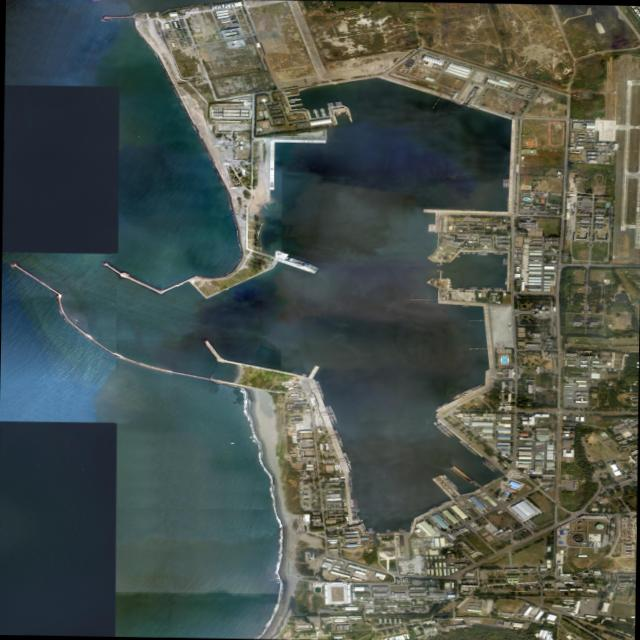ship: (285, 256, 320, 271), (452, 384, 483, 400), (450, 466, 473, 483), (458, 439, 479, 456), (432, 421, 452, 438), (435, 420, 455, 437), (483, 458, 499, 472), (327, 405, 338, 424), (481, 460, 497, 473), (333, 429, 344, 447), (324, 406, 335, 424), (315, 380, 325, 399), (465, 87, 478, 101), (342, 452, 352, 470), (435, 402, 448, 409), (348, 476, 352, 492), (502, 256, 505, 265), (506, 179, 509, 188), (504, 277, 507, 285), (504, 257, 507, 265), (502, 179, 505, 187), (493, 252, 504, 254), (477, 253, 488, 255), (478, 251, 488, 253), (494, 287, 503, 289), (482, 287, 491, 289), (505, 179, 507, 188), (469, 286, 477, 288), (482, 289, 491, 290), (494, 289, 503, 290), (456, 288, 464, 289), (469, 288, 477, 289), (462, 305, 469, 306)
storage-tank: (595, 524, 603, 529), (579, 521, 582, 524), (579, 528, 581, 529)
